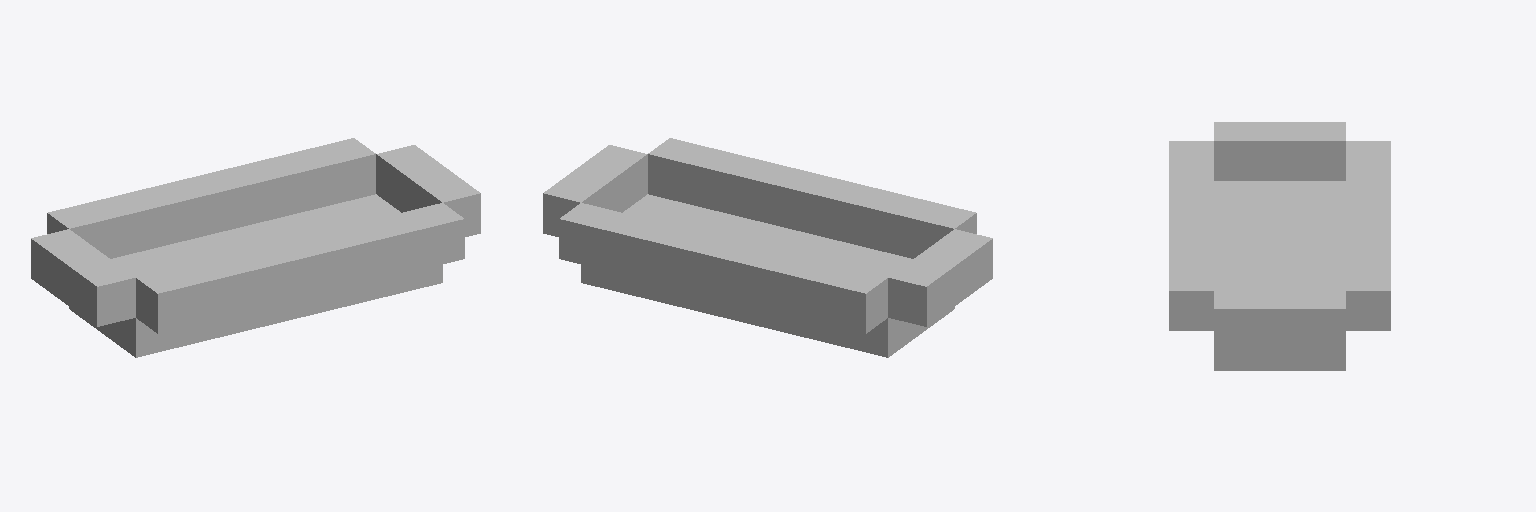
The model's file is plat.obj.
3 views of the same model, side by side, from view 1: azimuth 30°, elevation 25°; view 2: azimuth 150°, elevation 25°; view 3: azimuth 270°, elevation 25° (orthographic).
Visible parts, largest first — view 1: plat; view 2: plat; view 3: plat.
Part boxes in pixels (x1,y1,x2,y2): plat: (31,138,480,357); plat: (543,138,992,357); plat: (1169,122,1390,370).
Size of the model in its own units: 10 by 2 by 5.